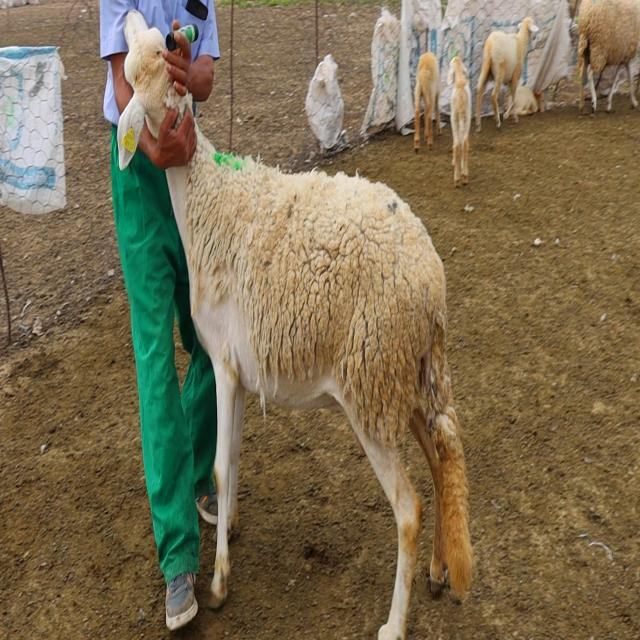Score_2: (165, 113, 473, 639)
